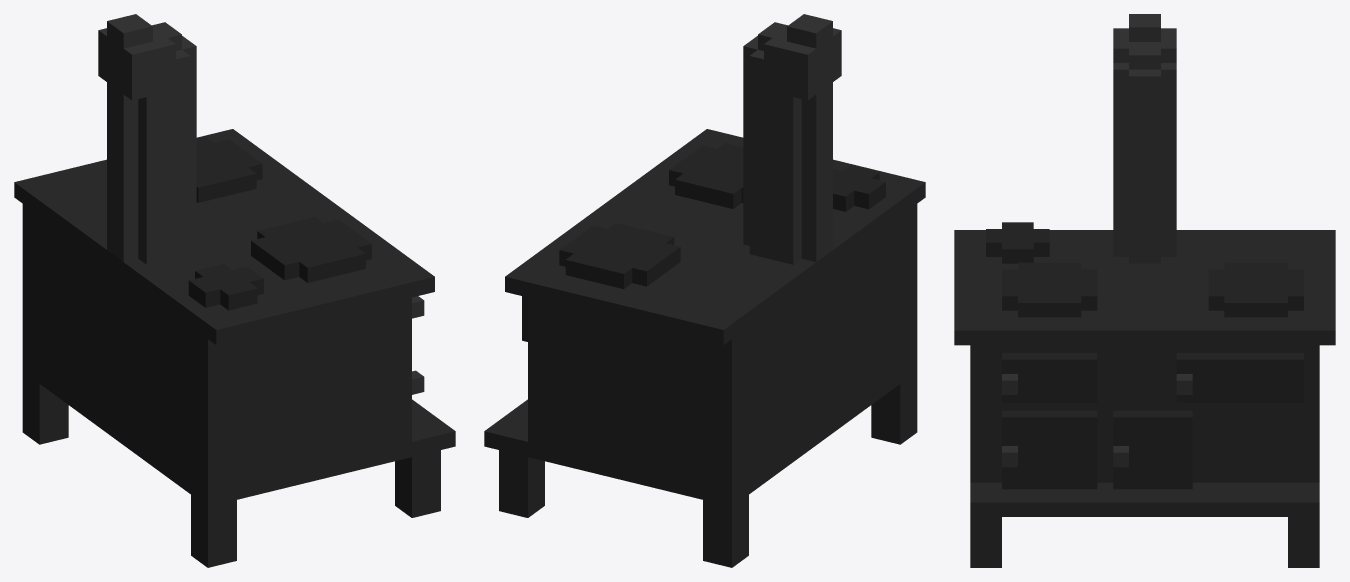
The model's file is BurJUIKA.obj.
3 renders of one model, left to right at view 1: azimuth 30°, elevation 25°; view 2: azimuth 150°, elevation 25°; view 3: azimuth 270°, elevation 25°, orthographic. The views are drawn at different scales.
Visible parts, largest first — view 1: BurJUIKA; view 2: BurJUIKA; view 3: BurJUIKA.
Part boxes in pixels (x1=…): BurJUIKA: x1=14, y1=14, x2=455, y2=567; BurJUIKA: x1=484, y1=14, x2=925, y2=567; BurJUIKA: x1=954, y1=14, x2=1335, y2=567.
Size of the model in its own units: 1.7 by 3.1 by 2.4.
Materials: 1 (1 with a texture image).
